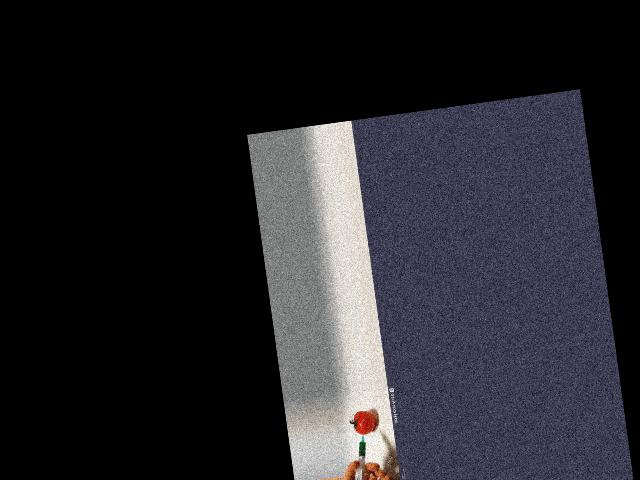tomato: (353, 410, 377, 435)
